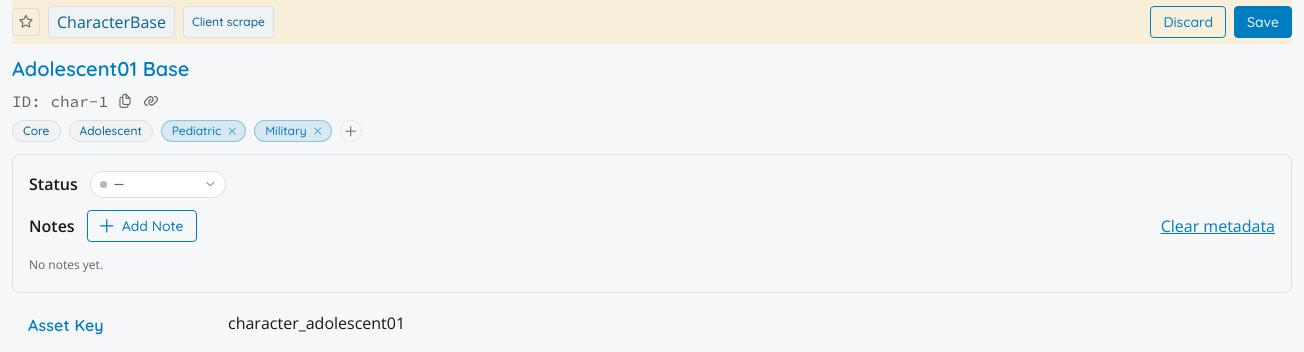
Scenario: AssetDetailComponent tags › discards overlay tag edits without writing the record
Step 1. Click the button with class "simx-btn" showing "Discard" → (1188, 22), box [1150,6,1226,38]
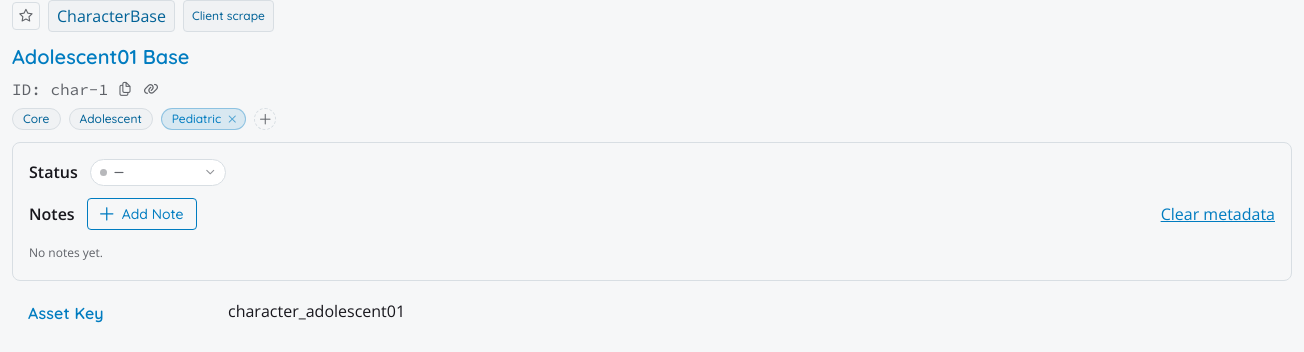
Expected: the text "Military" is gone
Expected: the element with class "header-edit-actions" is gone
